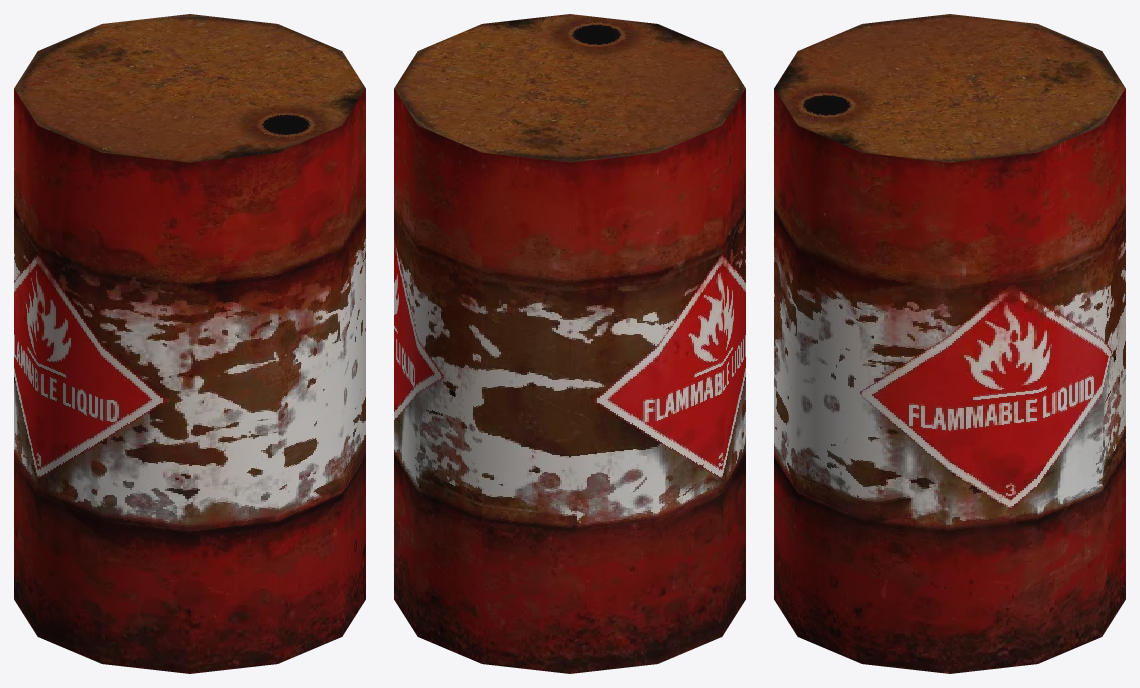
File: barrel.glb
3 renders of one model, left to right at view 1: azimuth 30°, elevation 25°; view 2: azimuth 150°, elevation 25°; view 3: azimuth 270°, elevation 25°, orthographic.
Parts seen in each view (by area): view 1: Cylinder_0; view 2: Cylinder_0; view 3: Cylinder_0.
Part boxes in pixels (box(x1,y1,x2,y2)): Cylinder_0: box(14, 14, 365, 673); Cylinder_0: box(394, 14, 745, 673); Cylinder_0: box(774, 14, 1125, 673).
Size of the model in its own units: 2 by 3.21 by 2.
Materials: 1 (1 with a texture image).
